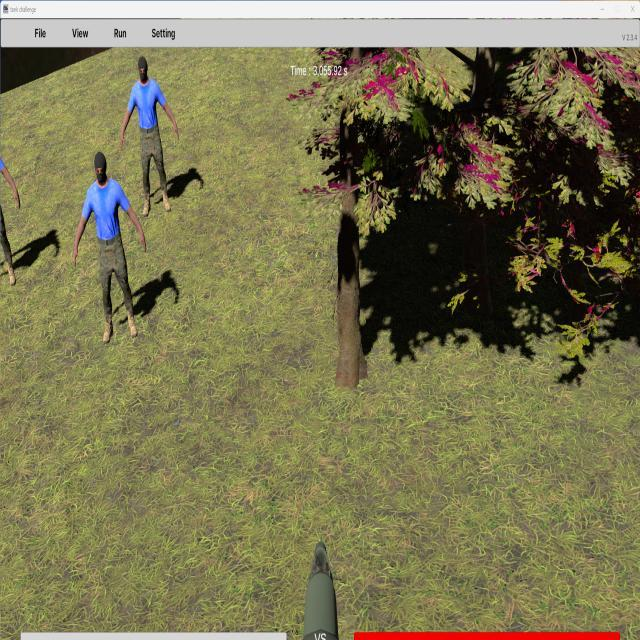Human: (73, 150, 147, 345), (120, 56, 179, 217), (0, 120, 21, 288)
